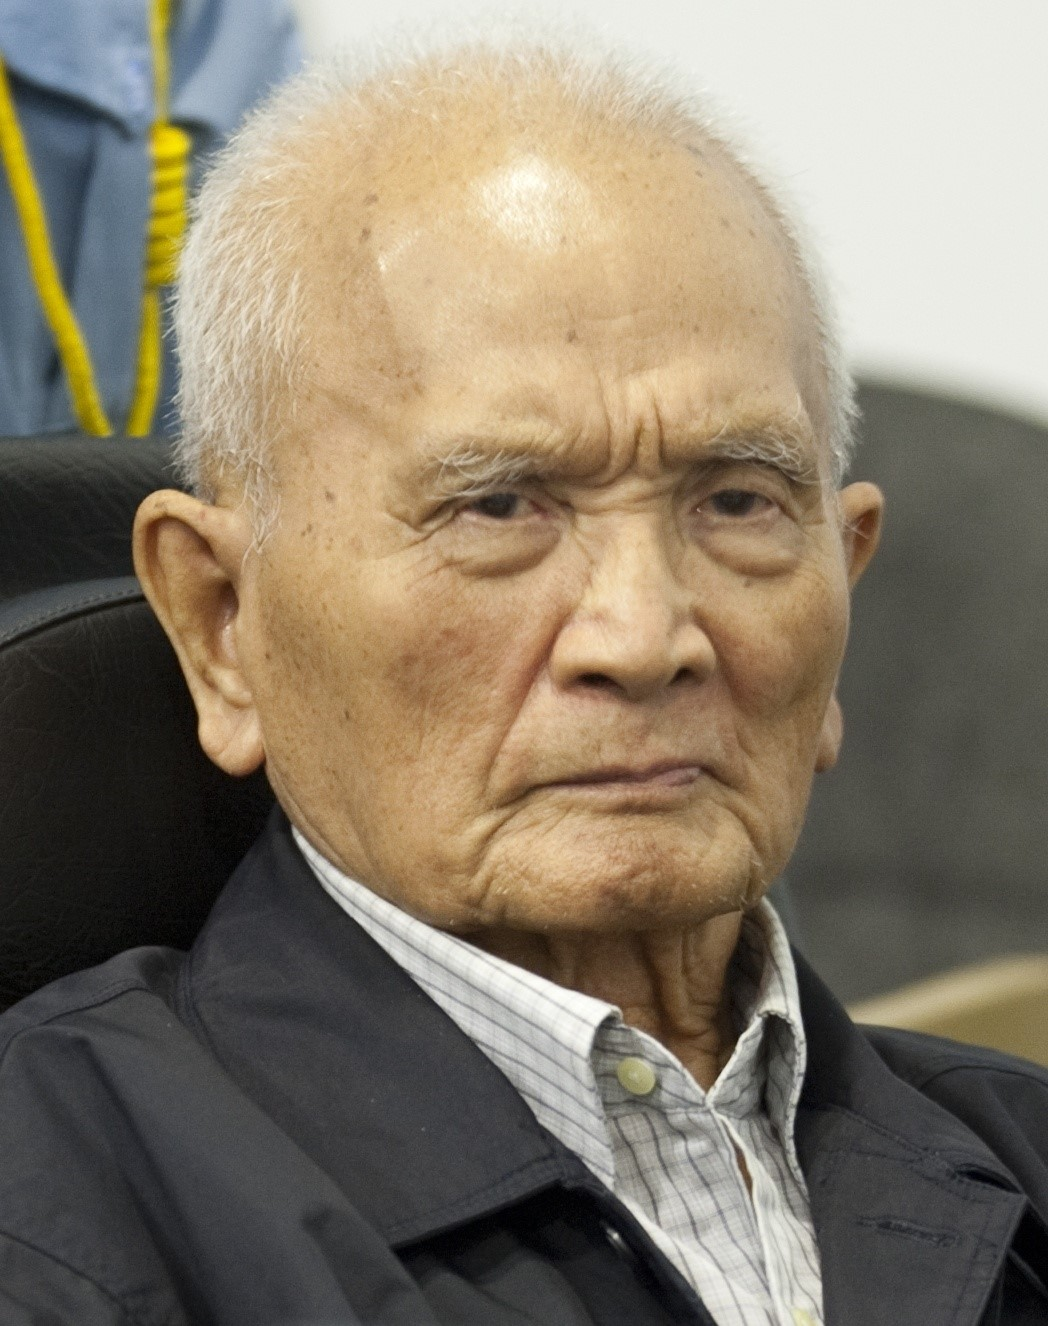face_no_mask: (129, 48, 880, 933)
